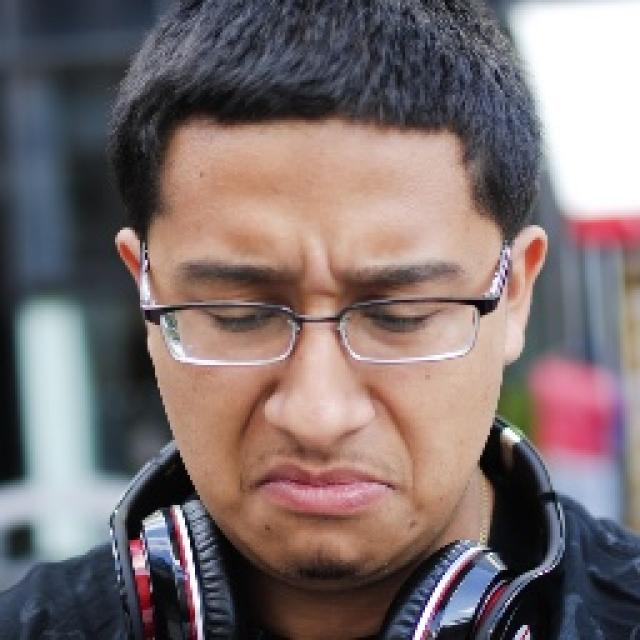earlobe: (502, 223, 548, 364)
